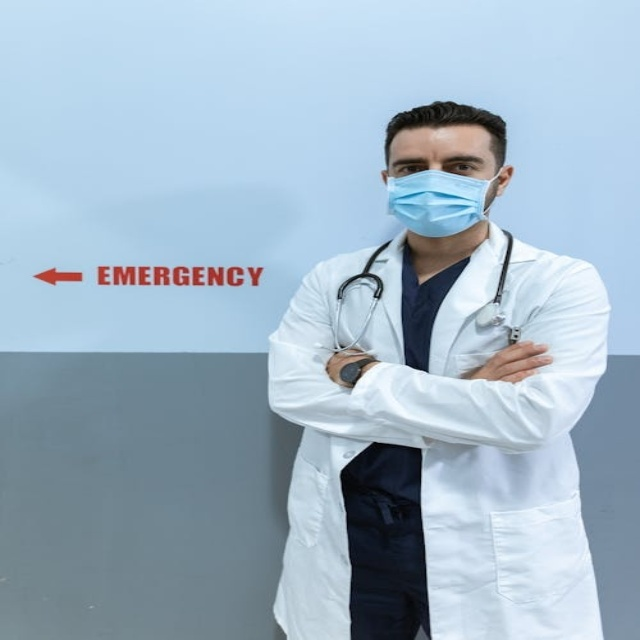Mascara: (386, 168, 496, 236)
Sin_gafas: (392, 152, 492, 174)
Sin_guantes: (468, 335, 556, 381), (325, 349, 379, 389)
